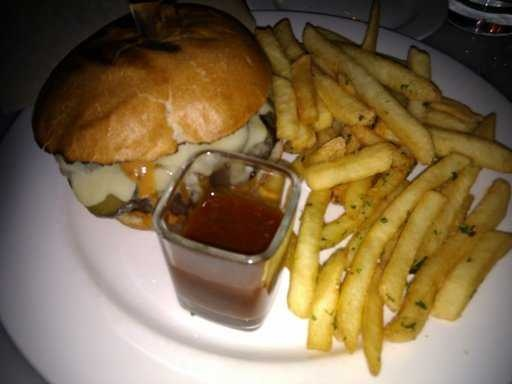hamburger: (37, 24, 302, 230)
